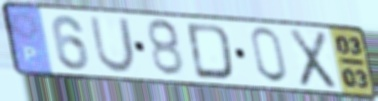0: (248, 25, 291, 87)
6: (49, 13, 91, 72)
8: (144, 17, 186, 80)
D: (184, 21, 237, 83)
U: (88, 15, 139, 75)
X: (287, 26, 340, 91)
